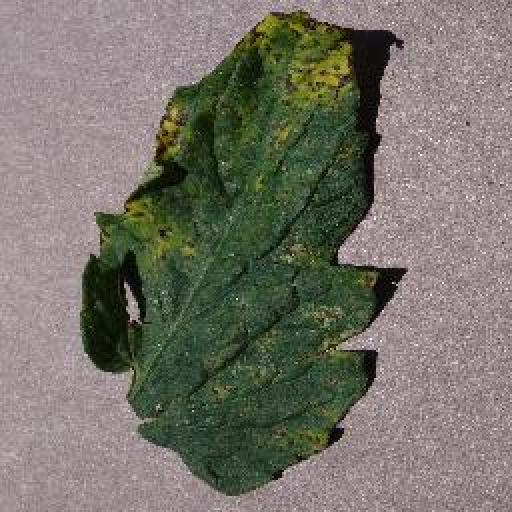Septoria: (76, 8, 383, 499)
